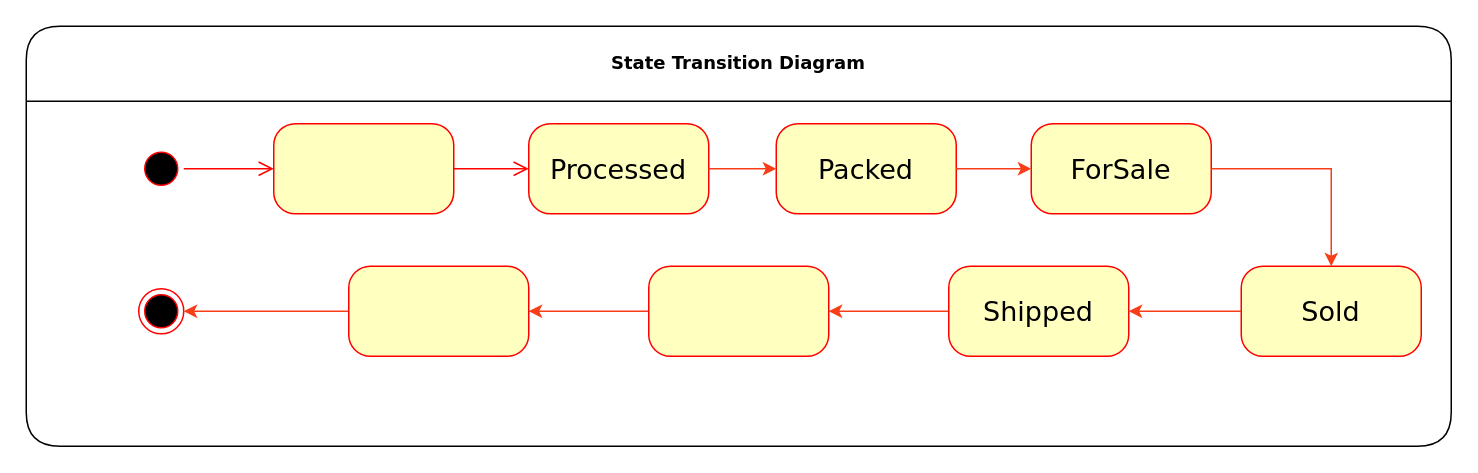
Some shapes in this 1478 by 473 pixel diagram are drawn without their labels. The centre of each missing label's shape, as x and y in pixels:
"Harvested" goes at pixel 363 168.
"Purchased" goes at pixel 438 310.
"Received" goes at pixel 738 310.
